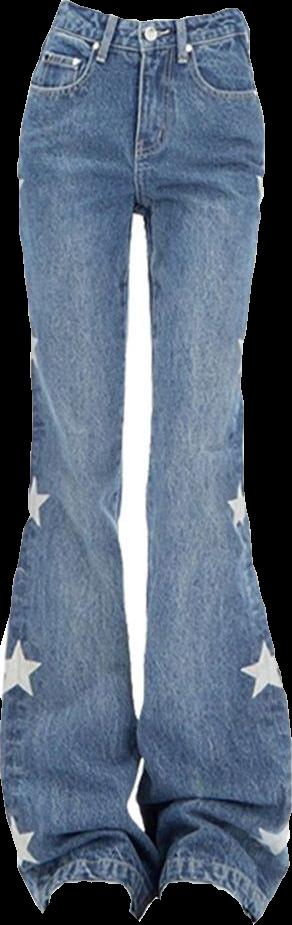Hemline: (35, 870, 151, 917), (158, 872, 264, 923)
Pantleg: (0, 0, 168, 919), (134, 8, 291, 920)
Waistline: (47, 26, 247, 59), (59, 0, 241, 29)
